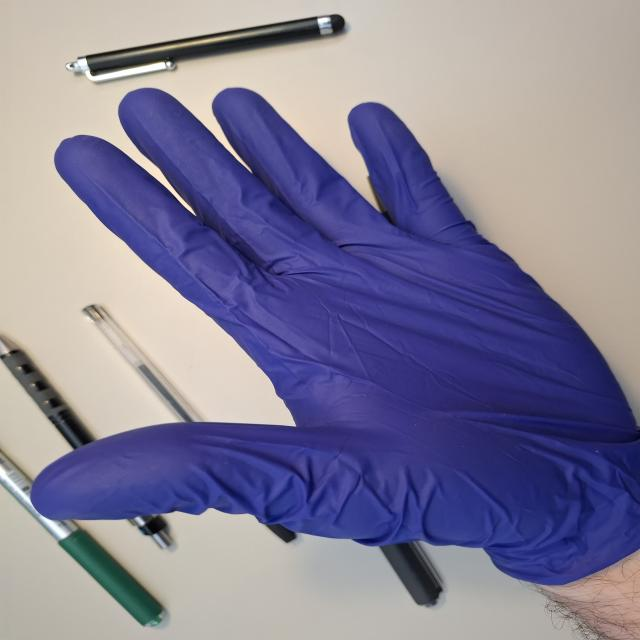glove_on: (26, 83, 640, 598)
